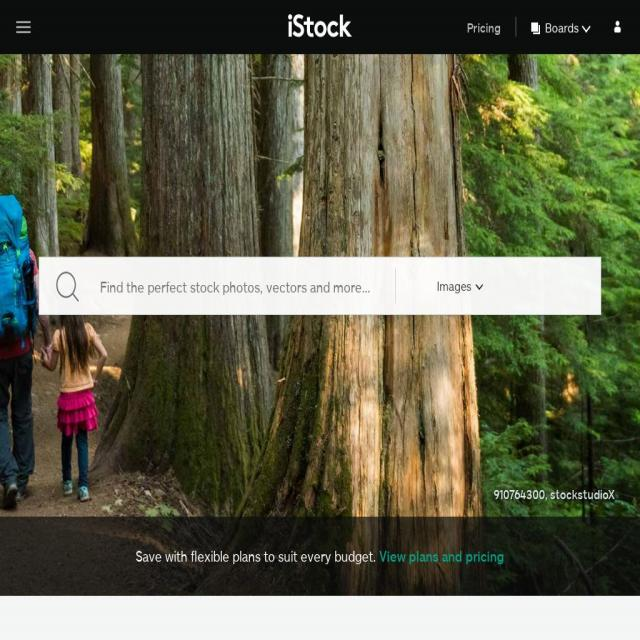button: (40, 256, 96, 316), (516, 8, 603, 44), (279, 7, 360, 44), (457, 9, 516, 45), (7, 5, 41, 46), (604, 11, 629, 44)
field: (96, 256, 395, 315), (396, 258, 601, 314)
